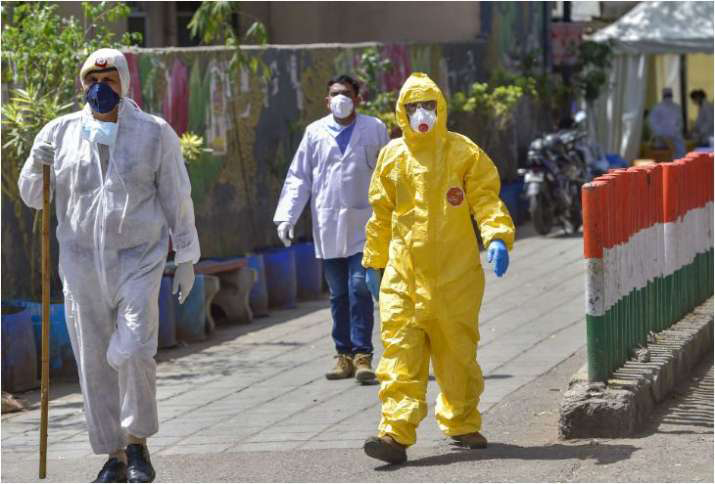Coverall: (16, 46, 201, 452), (363, 72, 517, 442)
Gloves: (171, 261, 197, 306), (486, 241, 511, 277), (28, 143, 56, 174), (277, 222, 297, 249), (363, 269, 380, 298)
Goggles: (406, 99, 437, 112)
with_mask: (86, 77, 117, 113), (331, 90, 354, 119), (411, 110, 436, 133)
